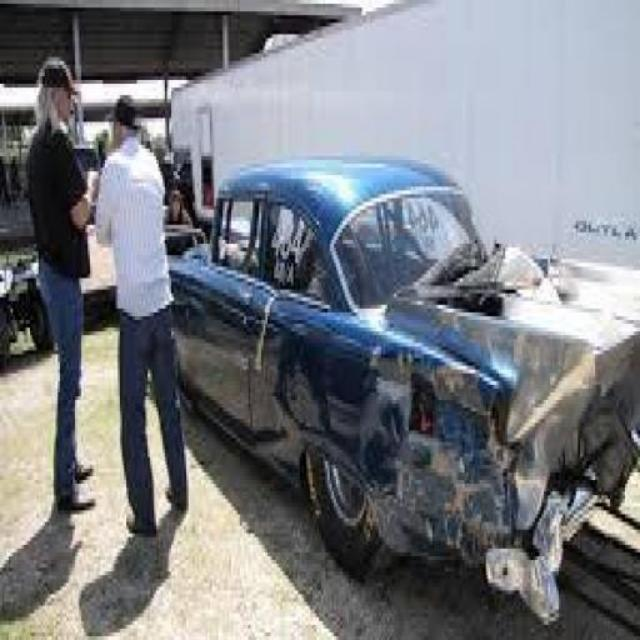crash: (365, 239, 640, 619)
